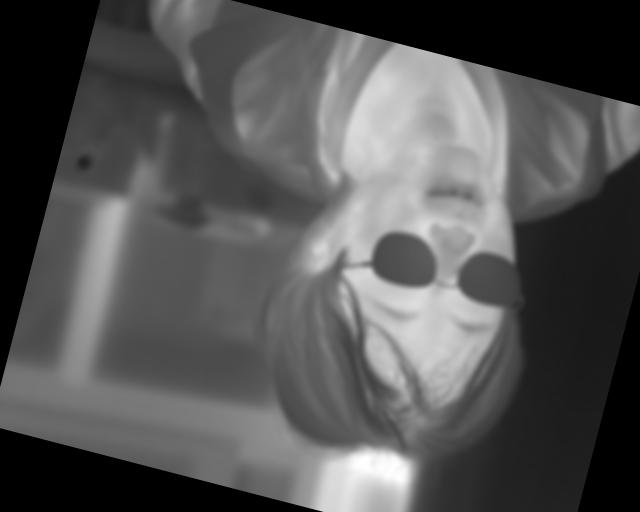face: (238, 105, 570, 497)
